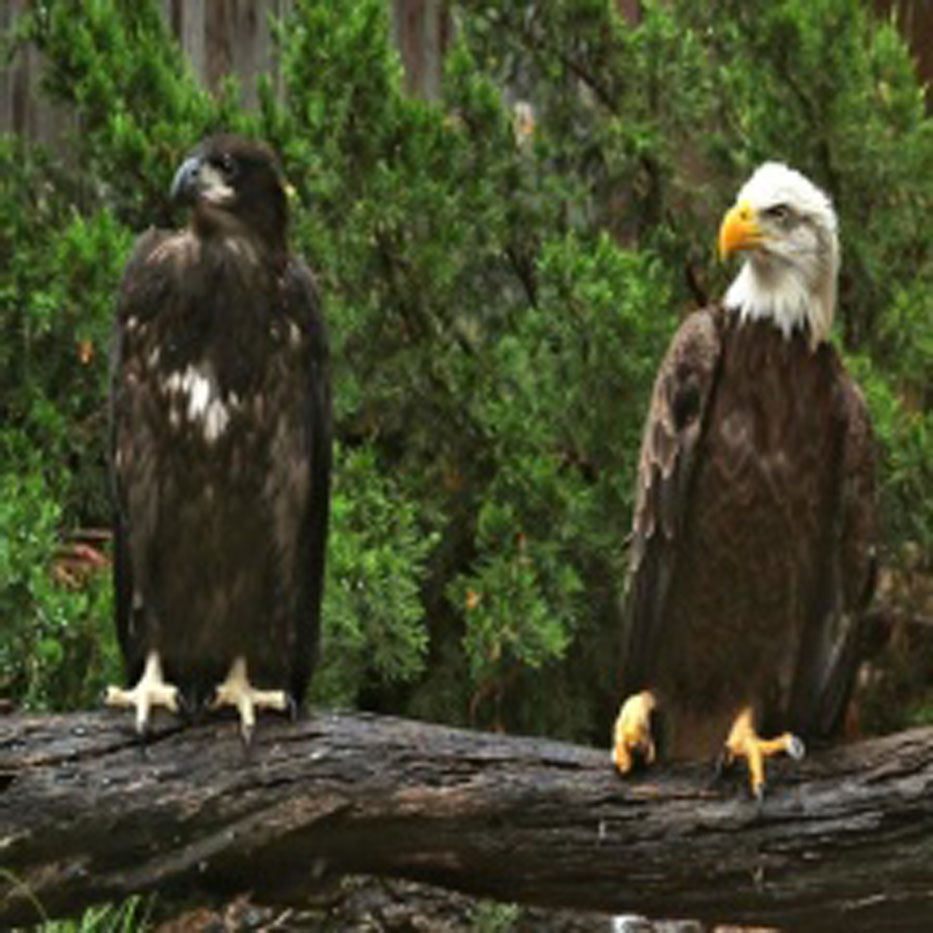Pengoyak Daging: (702, 197, 772, 276), (167, 151, 206, 204)
